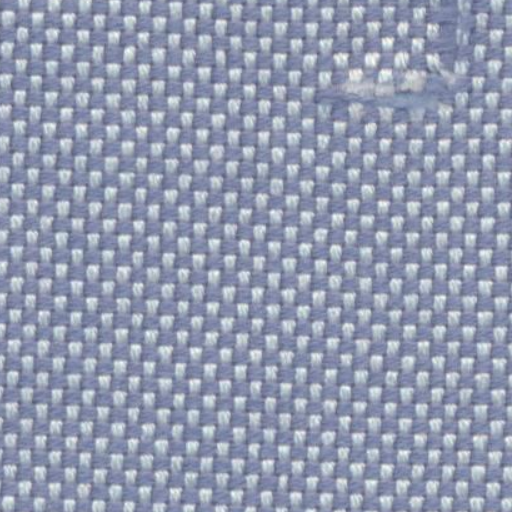PoDong: (320, 50, 480, 136)
